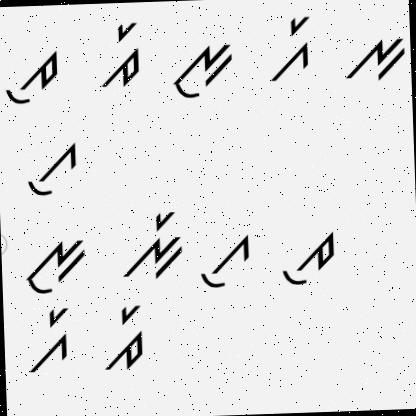gar: (17, 305, 76, 375), (264, 10, 315, 84)
gaw: (196, 229, 254, 292), (21, 139, 80, 199)
nga: (340, 31, 410, 88)
ngar: (116, 207, 186, 283)
ngaw: (18, 233, 89, 296), (166, 37, 235, 101)
tar: (103, 300, 160, 376), (94, 19, 144, 90)
taw: (1, 43, 63, 111), (272, 230, 343, 288)
